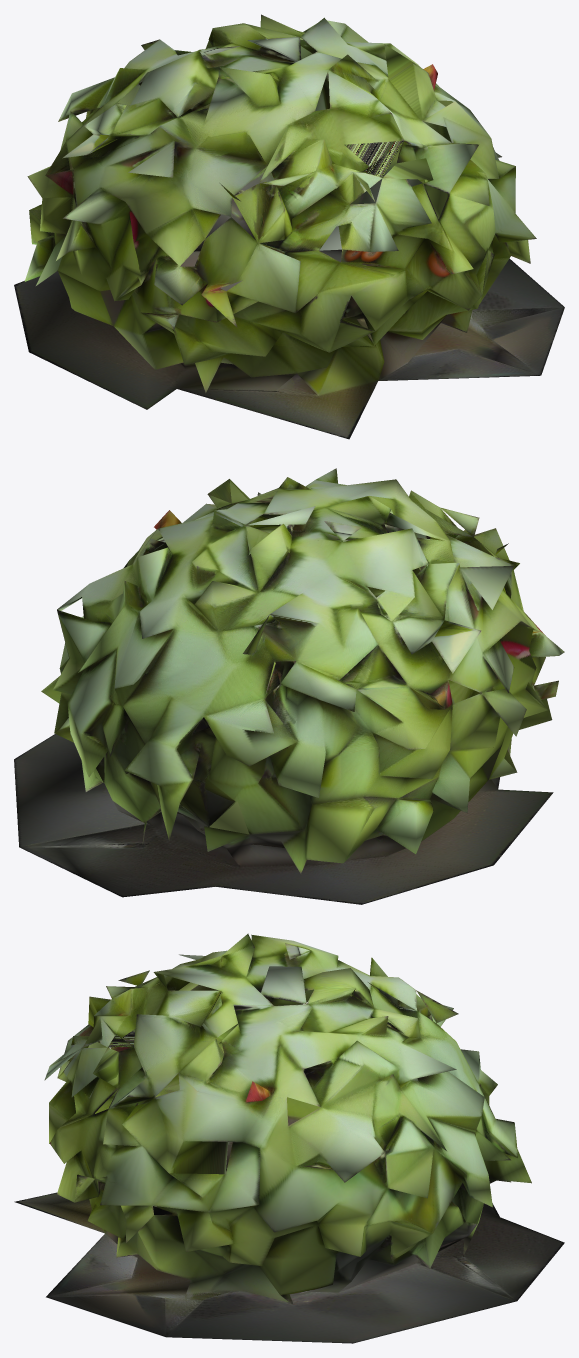
The model's file is bush.glb.
3 renders of one model, top to bottom at view 1: azimuth 30°, elevation 25°; view 2: azimuth 150°, elevation 25°; view 3: azimuth 270°, elevation 25°, orthographic. The views are drawn at different scales.
Size of the model in its own units: 1.82 by 1.06 by 2.
Materials: 1 (1 with a texture image).
